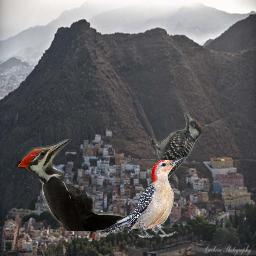Woodpecker: (10, 139, 145, 231), (96, 155, 187, 238), (148, 110, 202, 197)
